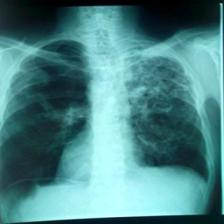tuberculosis: (1, 33, 214, 222)
